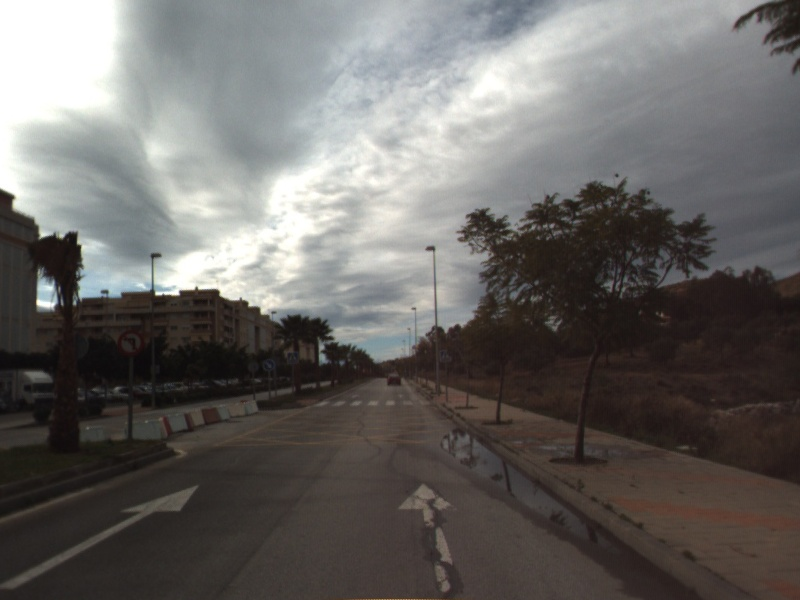STRAIGHT: (1, 483, 202, 592), (395, 480, 462, 595)
